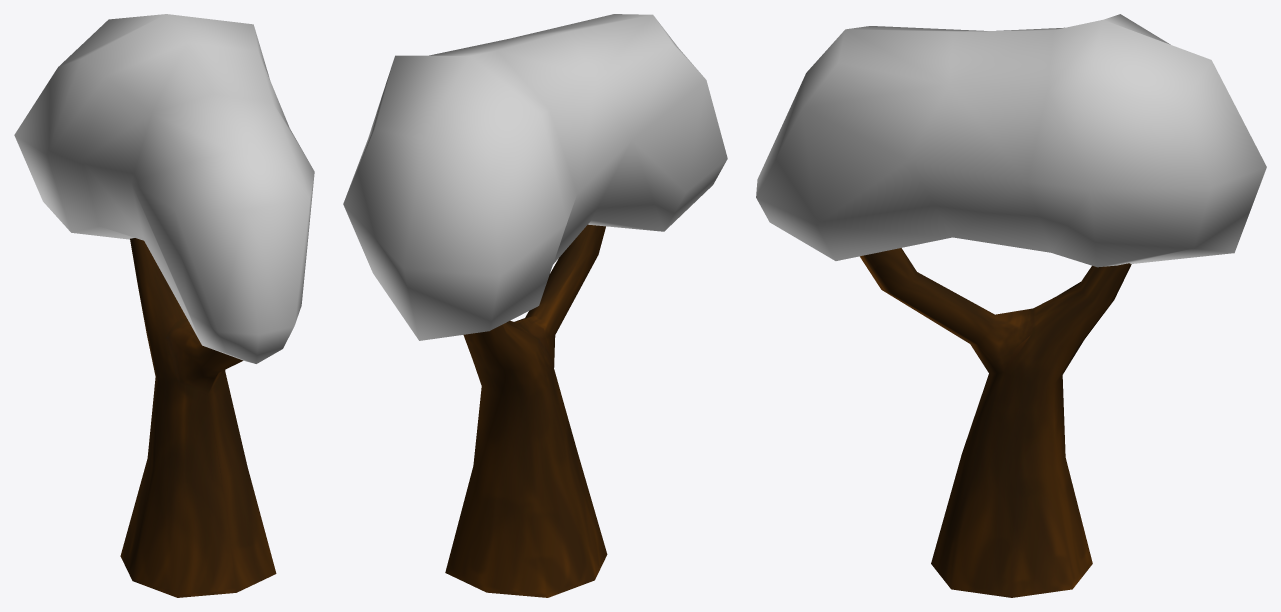
File: tree.fbx
The picture shows the model from 3 angles, left to right: view 1: azimuth 30°, elevation 25°; view 2: azimuth 150°, elevation 25°; view 3: azimuth 270°, elevation 25°; orthographic projection. The views are drawn at different scales.
Parts seen in each view (by area): view 1: Cube_001; view 2: Cube_001; view 3: Cube_001.
Boxes of the visible parts, x1,y1,x2,y2 form: Cube_001: (14, 14, 314, 597); Cube_001: (343, 14, 727, 597); Cube_001: (756, 14, 1266, 597).
Size of the model in its own units: 292 by 676 by 570.
